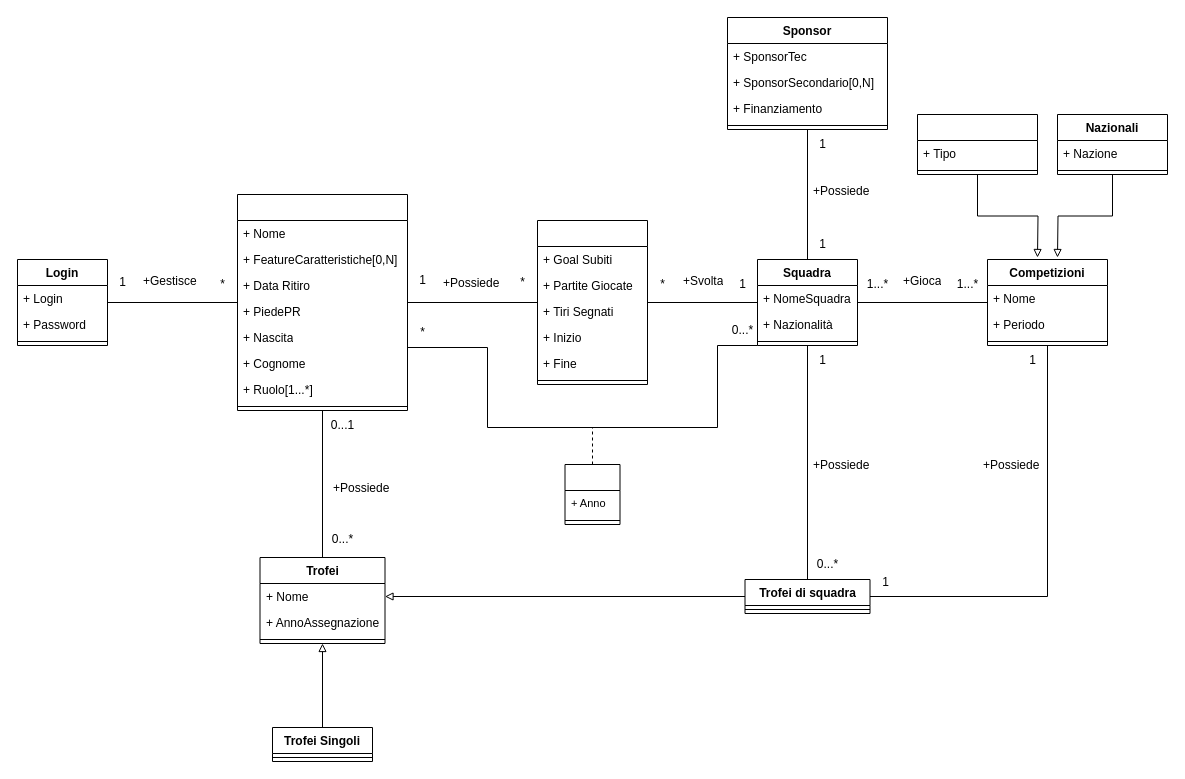
Some shapes in this 1185 by 779 pixel diagram are drawn without their labels. The shapes that lost their labels are listed below. From the top down, each one's box as (x1, y1, x2, y2) in pixels, then its label:
(916, 114, 1038, 174): Non Nazionali
(236, 194, 408, 410): Calciatore
(536, 220, 648, 384): Militanza
(564, 464, 620, 524): Rosa
